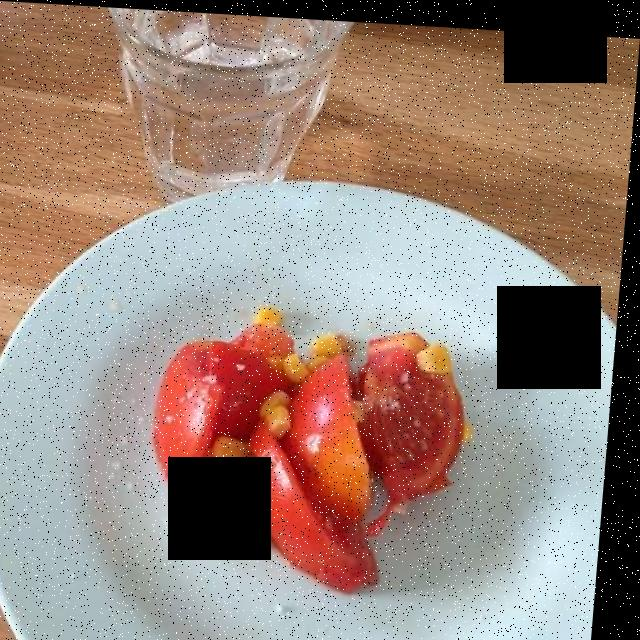corn: (202, 305, 344, 555)
tomato-raw: (150, 332, 464, 585)
water: (124, 16, 331, 183)
